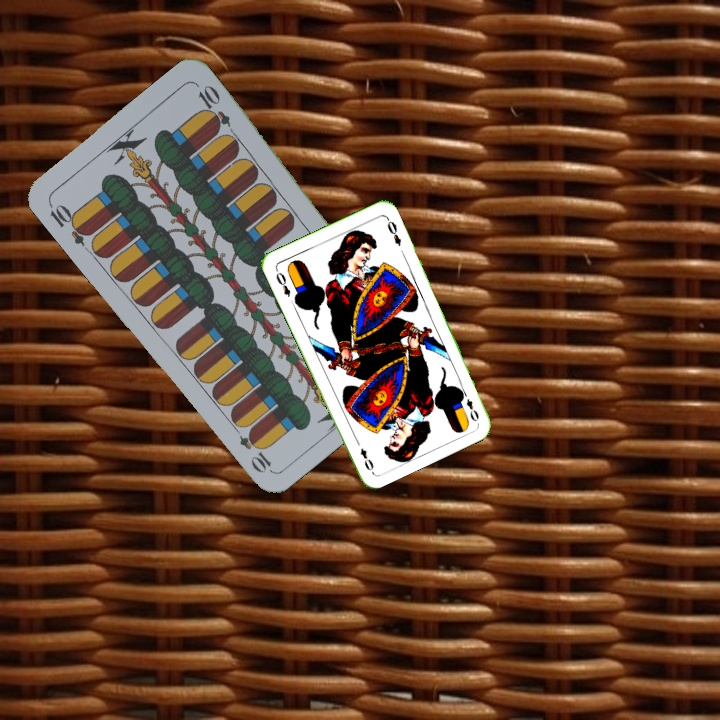E10: (44, 198, 94, 248)
EO: (272, 265, 293, 299), (462, 395, 482, 424)
